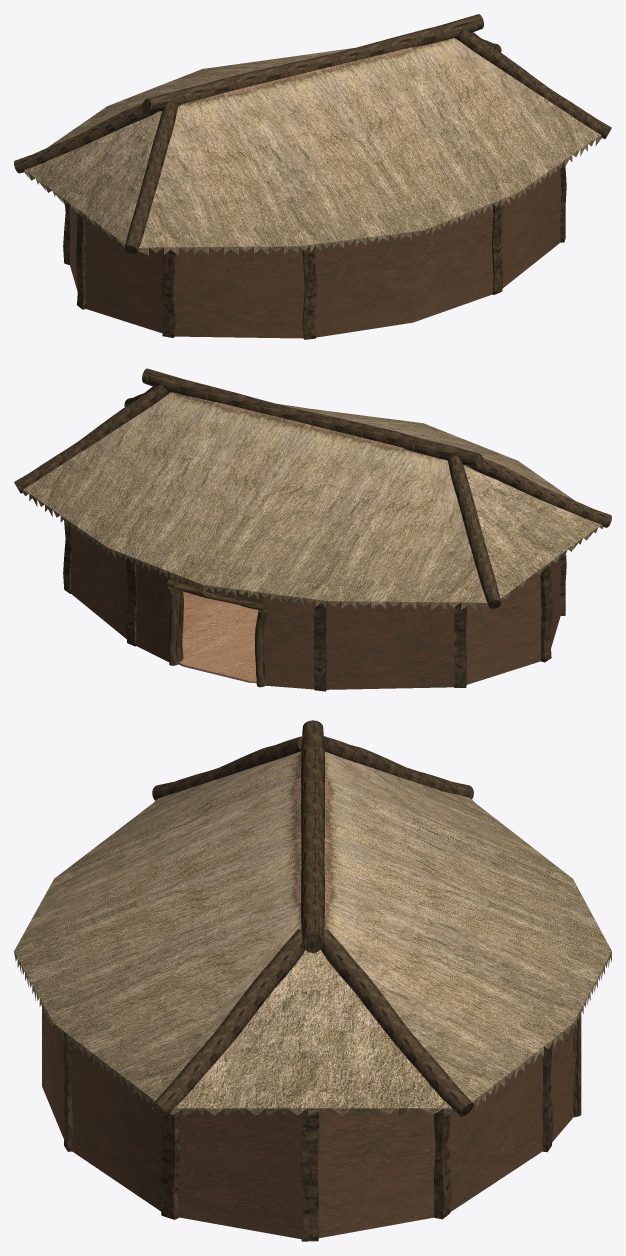
File: Casa del Osario (S1).fbx
The picture shows the model from 3 angles, top to bottom: view 1: azimuth 30°, elevation 25°; view 2: azimuth 150°, elevation 25°; view 3: azimuth 270°, elevation 25°; orthographic projection. The views are drawn at different scales.
Visible parts, largest first — view 1: Techo de Paja, Paredes de Barro, vigas techo, vigas de pared; view 2: Techo de Paja, Paredes de Barro, vigas techo, suelo rocas, vigas de pared, marco de puerta; view 3: Techo de Paja, Paredes de Barro, vigas techo, vigas de pared, marco de puerta.
Boxes of the visible parts, left/top/right/bottom form: Techo de Paja: left=24, top=38, right=602, bottom=255; Paredes de Barro: left=69, top=166, right=561, bottom=338; vigas techo: left=14, top=14, right=611, bottom=254; vigas de pared: left=63, top=161, right=566, bottom=339; Techo de Paja: left=22, top=392, right=603, bottom=610; Paredes de Barro: left=69, top=526, right=560, bottom=689; vigas techo: left=14, top=368, right=611, bottom=608; suelo rocas: left=179, top=591, right=258, bottom=683; vigas de pared: left=63, top=521, right=566, bottom=691; marco de puerta: left=167, top=579, right=268, bottom=687; Techo de Paja: left=14, top=751, right=611, bottom=1116; Paredes de Barro: left=42, top=1004, right=573, bottom=1239; vigas techo: left=152, top=720, right=473, bottom=1116; vigas de pared: left=63, top=1032, right=553, bottom=1241; marco de puerta: left=572, top=1012, right=581, bottom=1117.
Bounding box in the file's own units: 1160 × 911 × 442.
